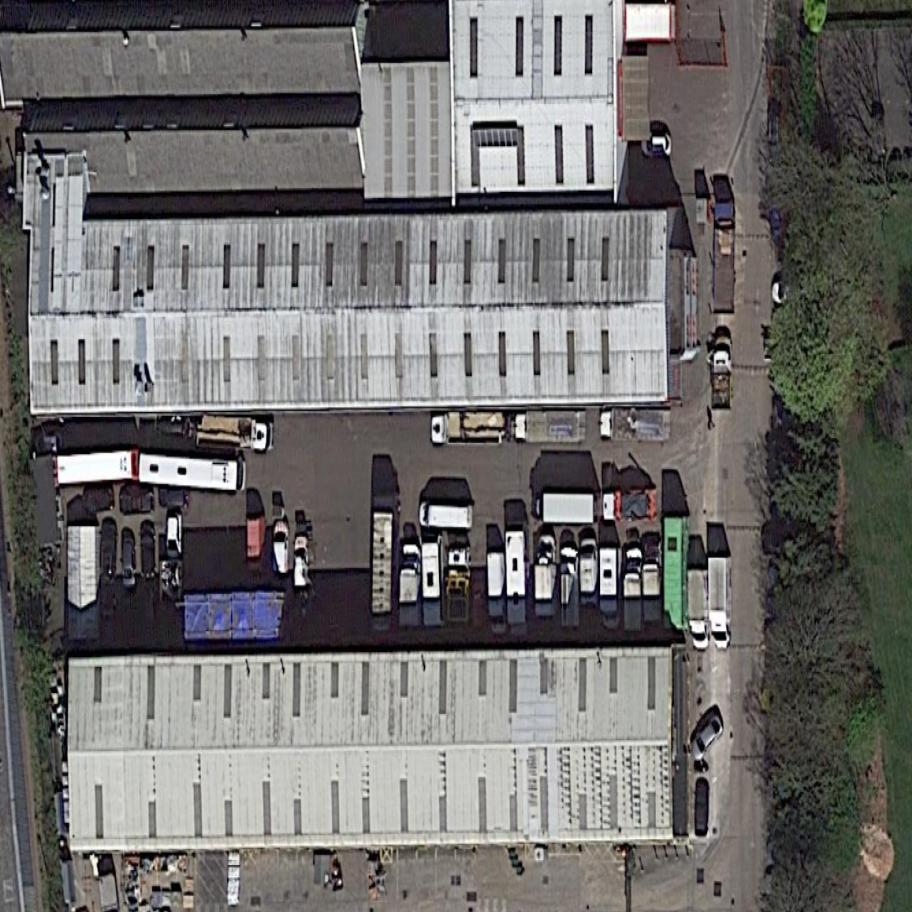large-vehicle: (137, 453, 247, 491), (711, 193, 738, 312), (56, 449, 140, 486), (430, 408, 507, 448), (195, 416, 276, 454), (707, 556, 736, 651), (510, 410, 586, 445), (594, 486, 661, 525), (600, 408, 671, 444), (534, 491, 595, 526), (445, 544, 471, 626), (598, 546, 623, 631), (557, 544, 581, 630), (642, 540, 664, 631), (624, 543, 646, 634), (687, 569, 710, 654), (534, 535, 557, 619), (400, 544, 422, 631), (485, 552, 508, 635), (709, 337, 734, 412), (419, 500, 473, 531), (579, 538, 598, 612)
small-vehicle: (682, 712, 732, 764), (94, 520, 120, 575), (246, 516, 266, 575), (469, 569, 488, 630), (139, 525, 158, 582), (121, 531, 138, 590), (82, 486, 117, 514), (119, 491, 155, 517), (694, 780, 710, 838), (273, 519, 290, 573), (767, 109, 783, 165), (100, 596, 117, 647), (157, 486, 190, 512), (166, 511, 183, 559), (640, 132, 672, 157), (35, 432, 63, 459), (295, 535, 309, 587)
